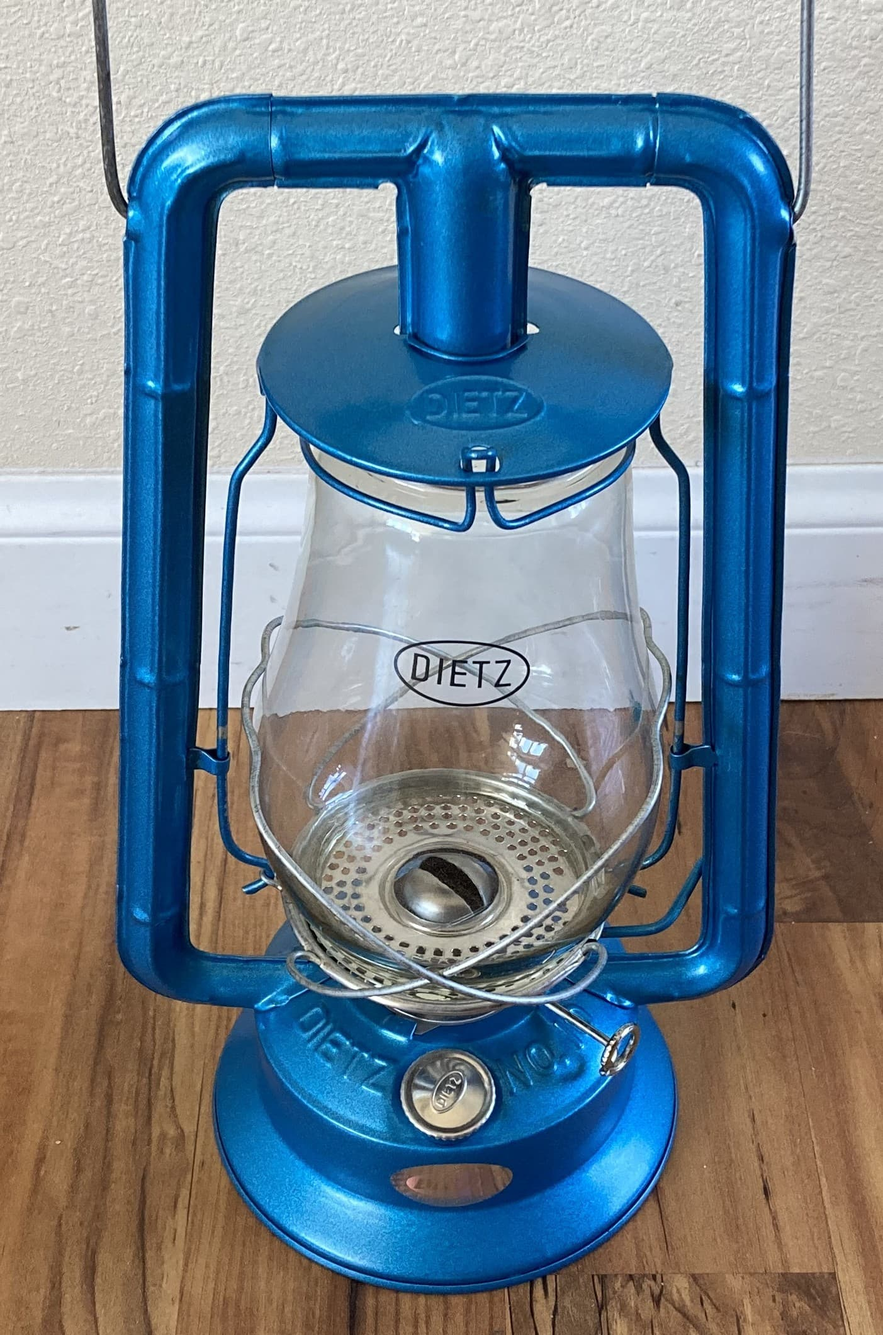Open-Flame-Hazard: (69, 16, 793, 1314)
